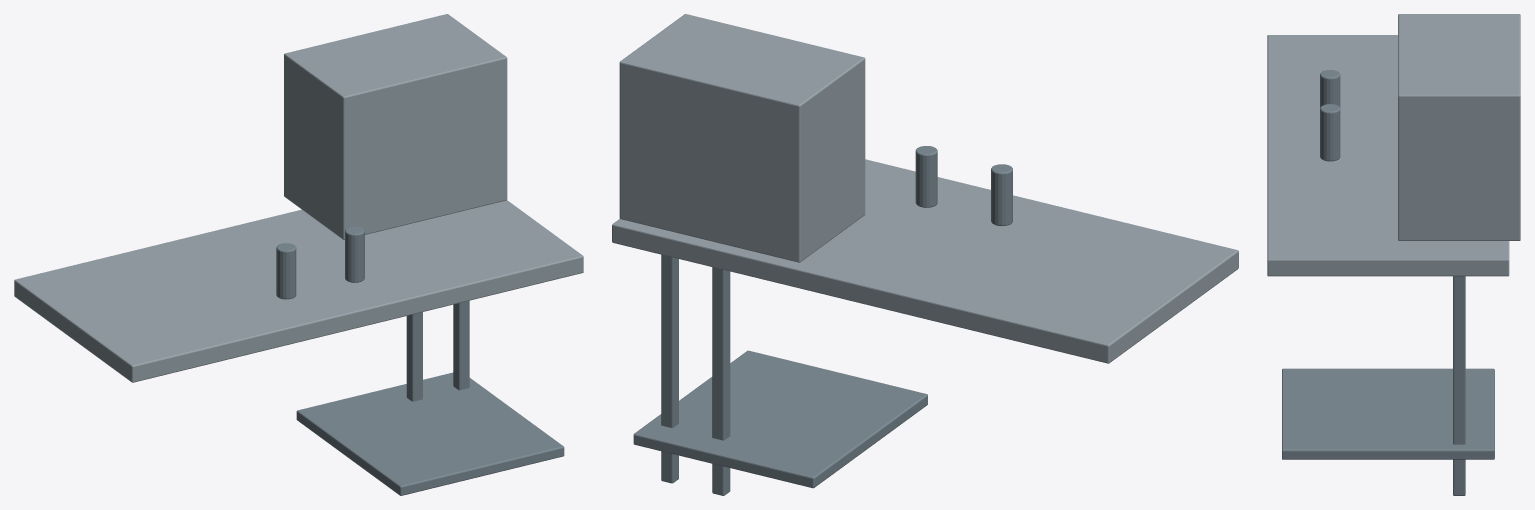
Rendered from SM_Lab_InstrumentBench.fbx.
3 renders of one model, left to right at view 1: azimuth 30°, elevation 25°; view 2: azimuth 150°, elevation 25°; view 3: azimuth 270°, elevation 25°, orthographic. The views are drawn at different scales.
Visible parts, largest first — view 1: SM_Lab_InstrumentBench; view 2: SM_Lab_InstrumentBench; view 3: SM_Lab_InstrumentBench.
Part boxes in pixels (bbox=[...]): SM_Lab_InstrumentBench: bbox=[14, 14, 583, 495]; SM_Lab_InstrumentBench: bbox=[612, 14, 1238, 495]; SM_Lab_InstrumentBench: bbox=[1267, 14, 1520, 495].
Size of the model in its own units: 165 by 78.5 by 139.
